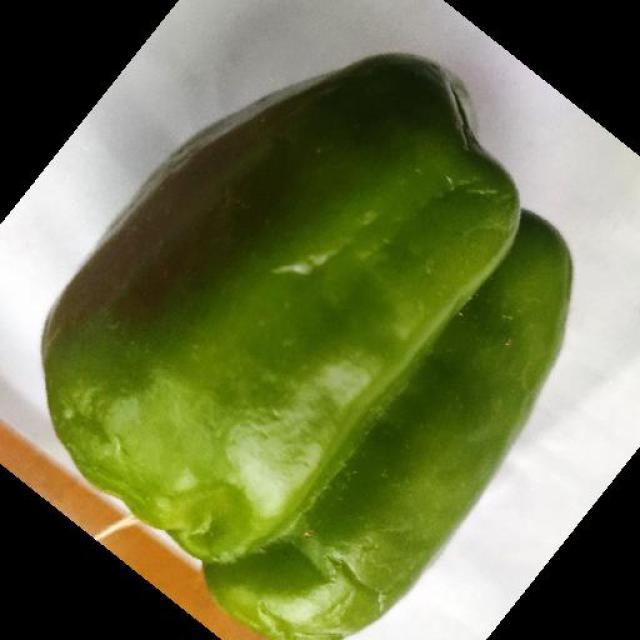Fresh_Capsicum: (118, 133, 461, 567)
